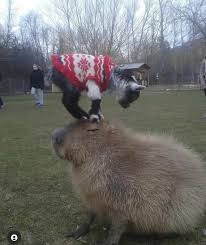capivara: (51, 118, 206, 245)
